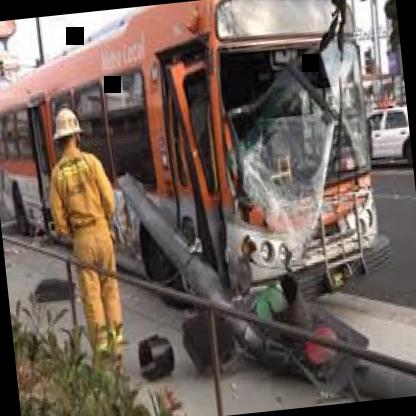accident: (85, 0, 416, 348)
